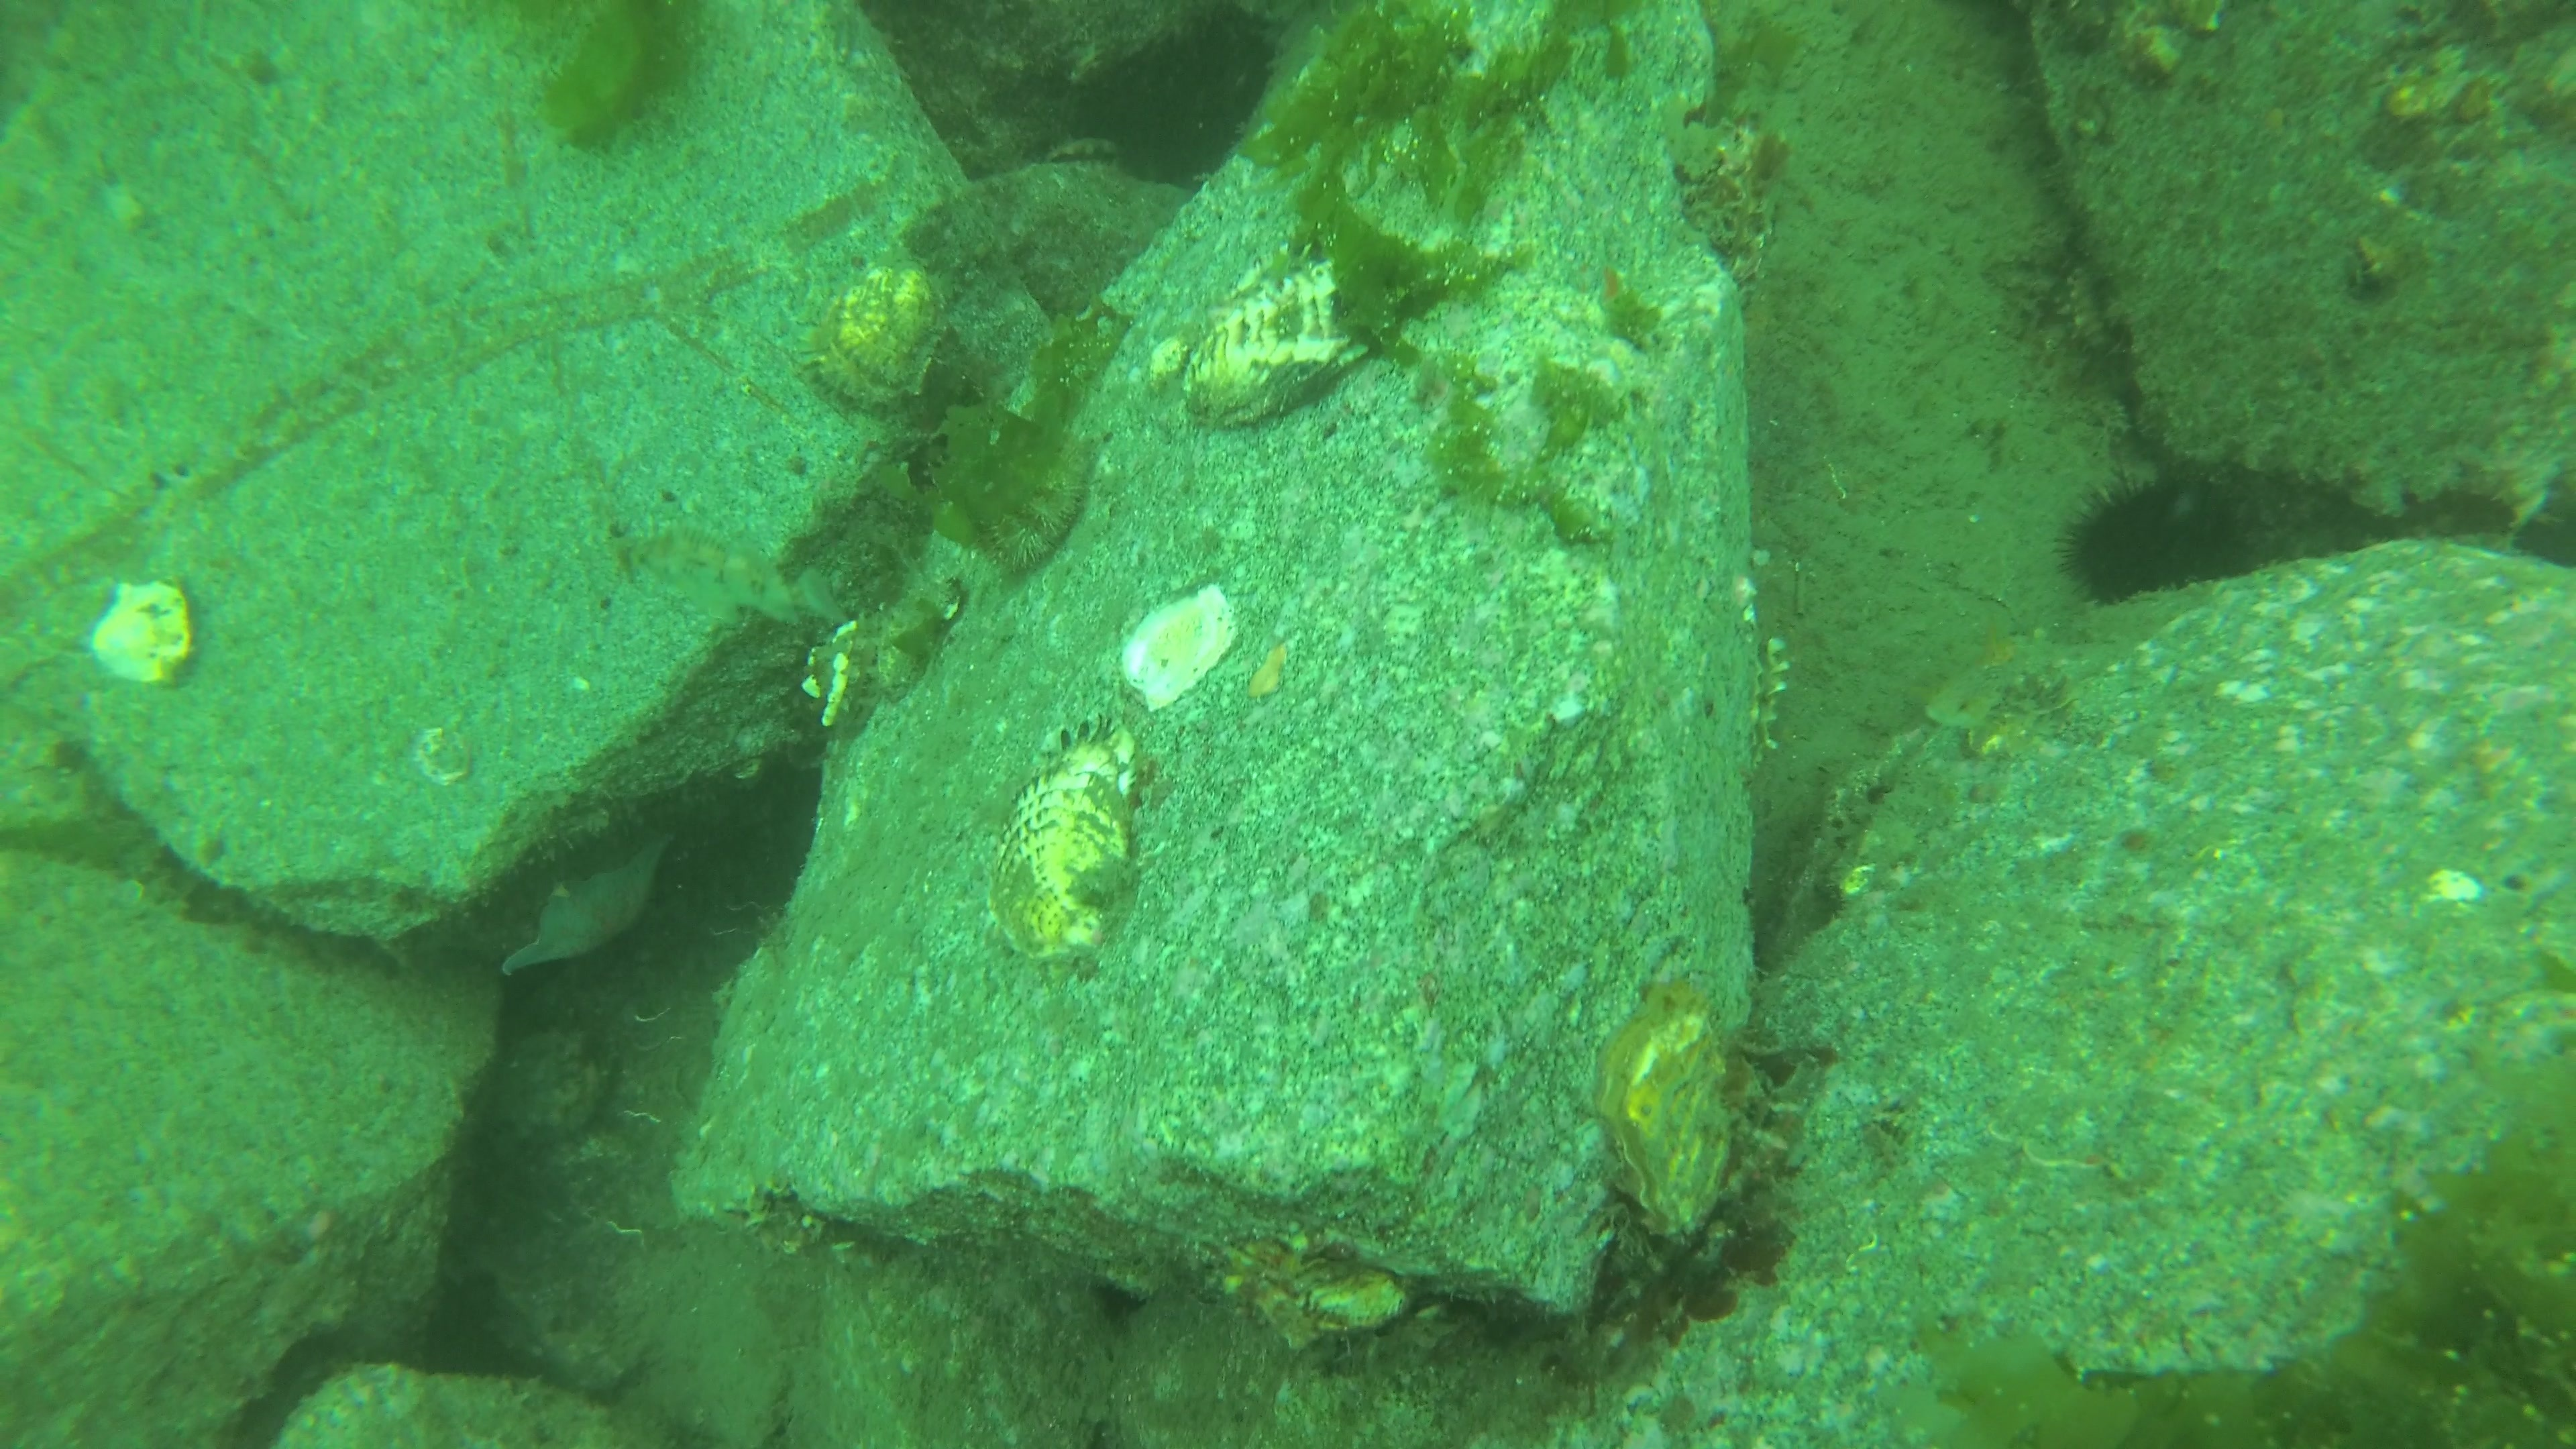echinus: (2049, 455, 2265, 605), (1074, 18, 1263, 184)
starfish: (501, 833, 678, 977)
